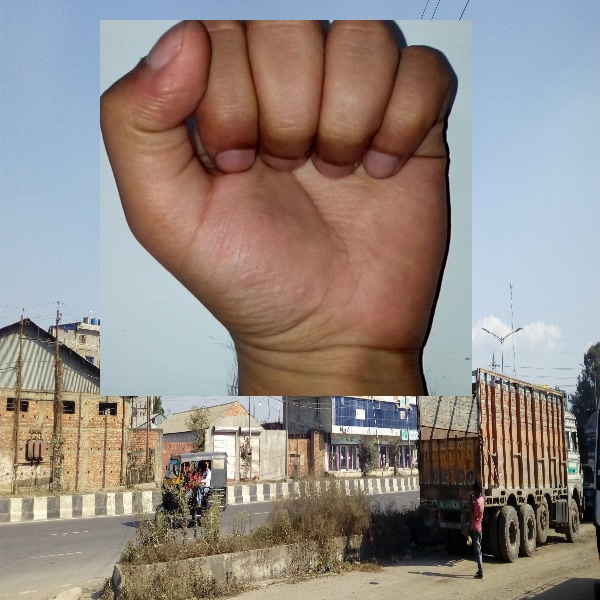A: (100, 20, 472, 396)
